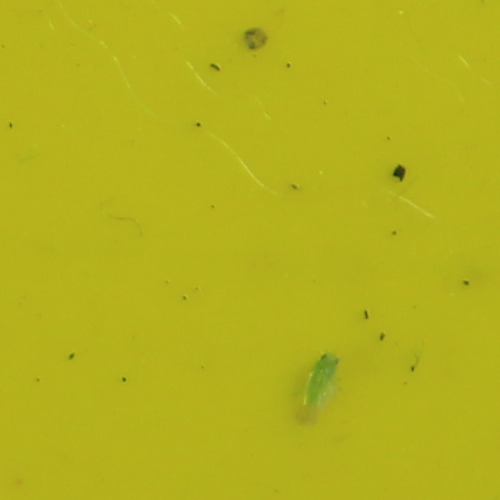psylla: (304, 351, 342, 408)
